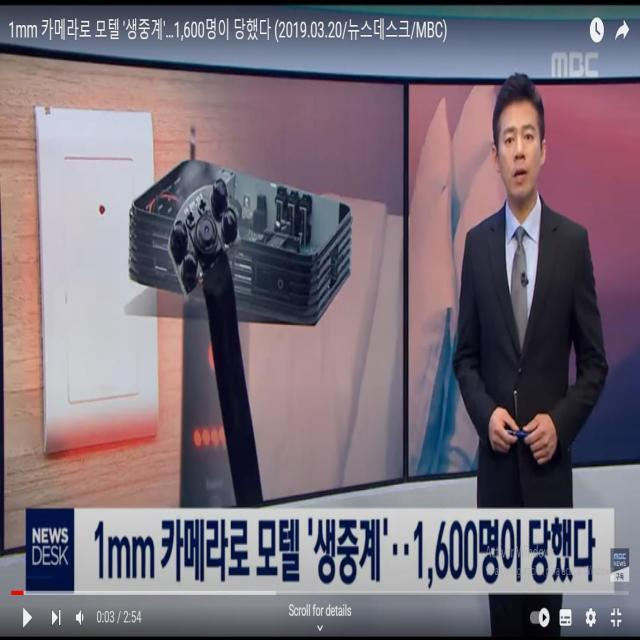hidden camera: (186, 199, 225, 269), (94, 189, 113, 229)
